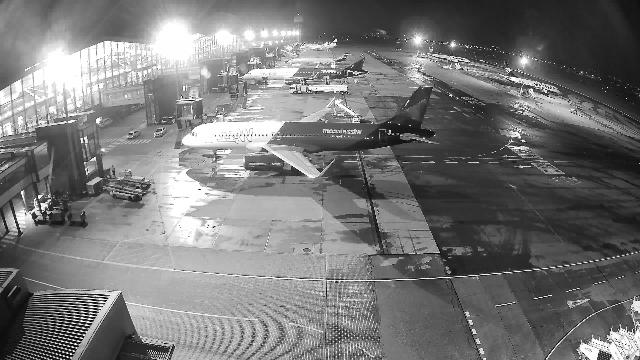Aircraft: (181, 86, 439, 178), (242, 52, 369, 86), (497, 61, 560, 94), (426, 46, 470, 63), (287, 53, 352, 64), (300, 39, 337, 49)
Airport_Tractor: (34, 194, 54, 211), (353, 113, 361, 123), (354, 78, 360, 84)
Baggage_Trolley: (86, 177, 104, 195), (67, 210, 86, 225), (52, 199, 68, 213), (48, 211, 65, 223), (31, 210, 47, 220)
Conveyor_Belt: (103, 176, 146, 201), (111, 169, 151, 190)
Fuel_Tuck: (289, 84, 349, 94)
Ground_Crew: (334, 111, 338, 119)
